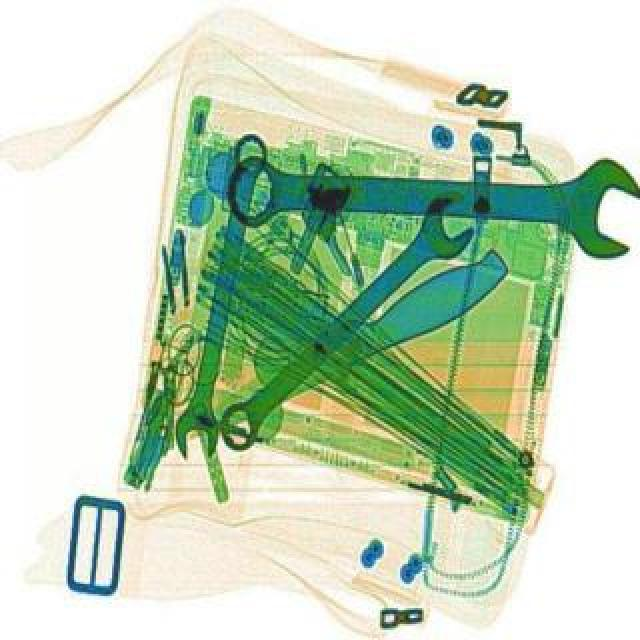knife: (192, 232, 524, 446)
scissors: (202, 186, 490, 458), (226, 126, 640, 258), (176, 128, 276, 460)
